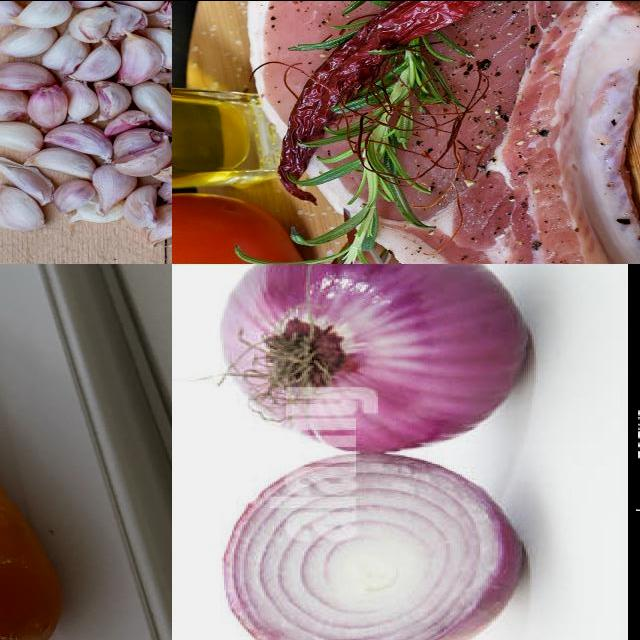carrot: (1, 264, 61, 640)
garlic: (1, 1, 173, 242)
onion: (217, 264, 534, 456), (217, 455, 525, 640)
tomato: (173, 191, 309, 264)
